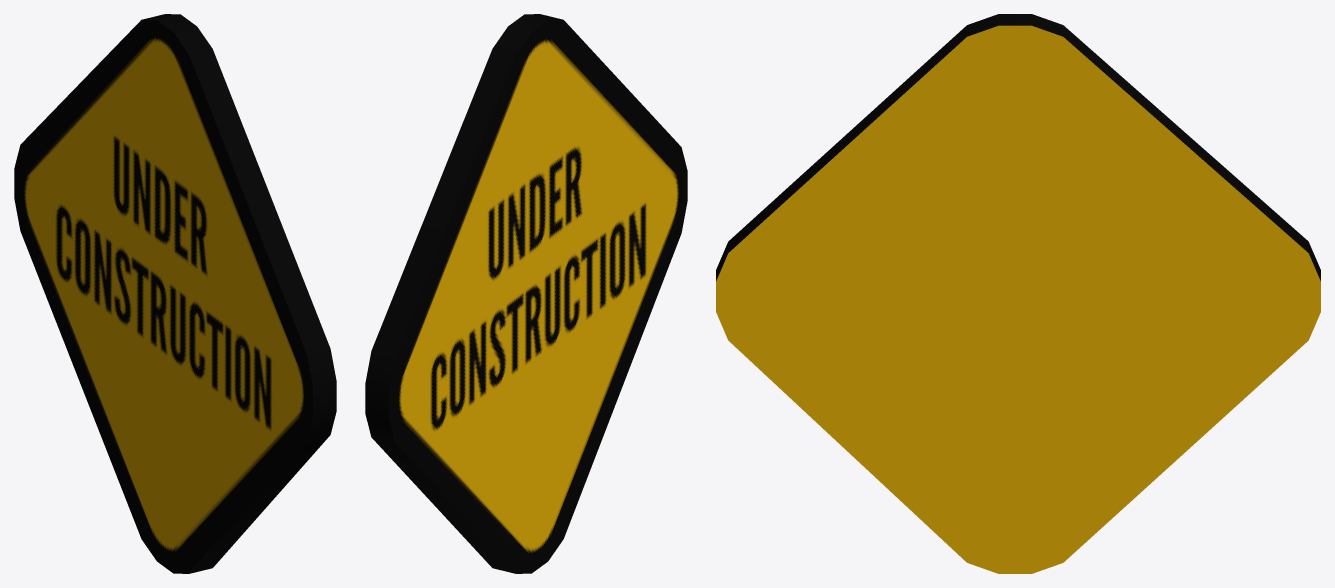
The model's file is Sign_1.glb.
3 views of the same model, side by side, from view 1: azimuth 30°, elevation 25°; view 2: azimuth 150°, elevation 25°; view 3: azimuth 270°, elevation 25° (orthographic).
Visible parts, largest first — view 1: Sign_1; view 2: Sign_1; view 3: Sign_1.
Part boxes in pixels (x1,y1,x2,y2): Sign_1: [14, 14, 336, 573]; Sign_1: [365, 14, 687, 573]; Sign_1: [716, 14, 1320, 573].
Bounding box in the file's own units: 0.0361 × 0.7882 × 0.7882.
Materials: 1 (1 with a texture image).
